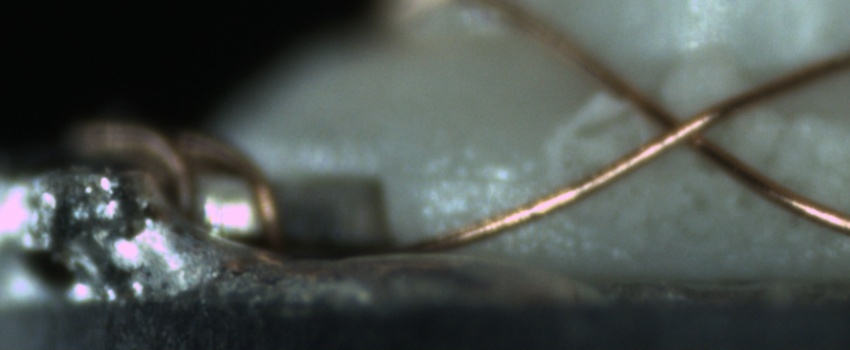CL: (632, 90, 725, 162)
DL: (423, 148, 514, 206)
TE: (66, 112, 289, 252)
